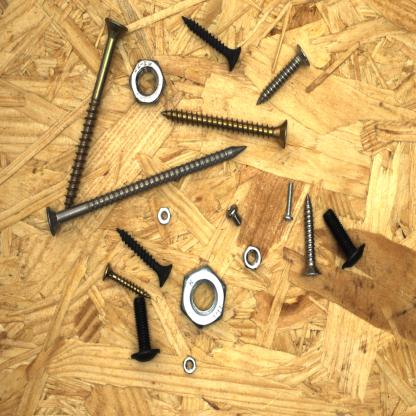screw: (45, 143, 251, 241), (60, 13, 132, 216), (155, 108, 292, 151), (113, 222, 178, 290), (181, 12, 245, 80), (253, 41, 312, 110), (321, 204, 368, 274), (296, 191, 326, 281), (101, 258, 153, 304), (129, 294, 162, 365), (223, 200, 245, 231), (282, 177, 296, 225)
